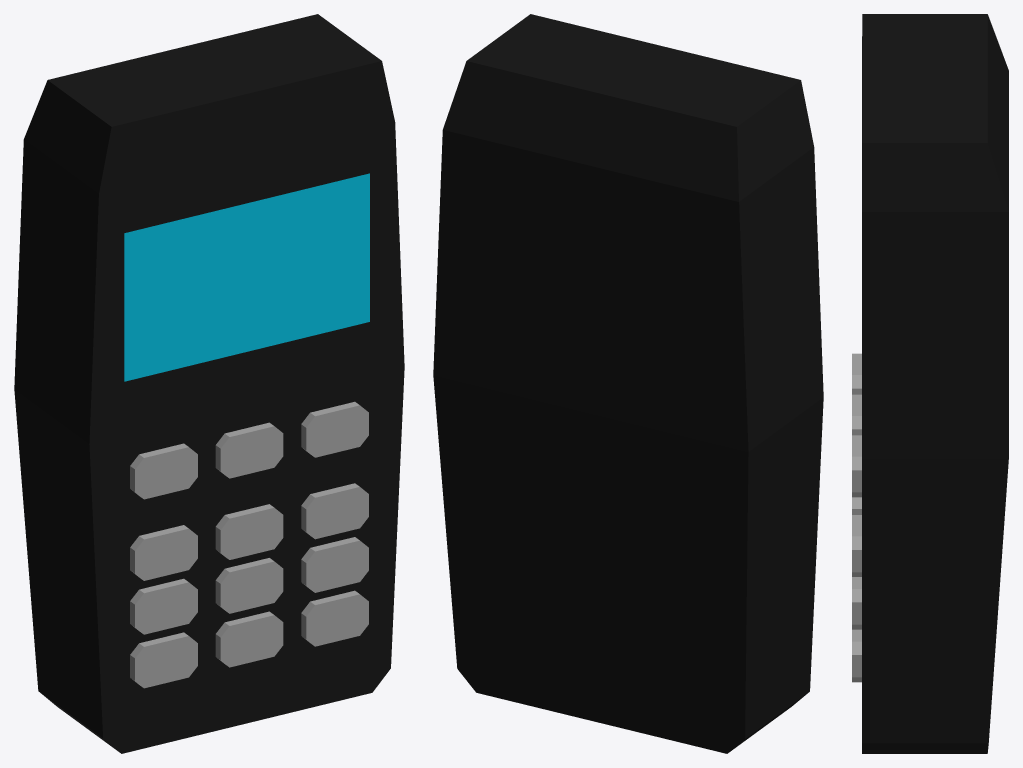
Rendered from phone_4.fbx.
3 renders of one model, left to right at view 1: azimuth 30°, elevation 25°; view 2: azimuth 150°, elevation 25°; view 3: azimuth 270°, elevation 25°, orthographic. The views are drawn at different scales.
Visible parts, largest first — view 1: Cube; view 2: Cube; view 3: Cube.
Part boxes in pixels (left/top/right/bottom): Cube: left=14, top=14, right=404, bottom=753; Cube: left=433, top=14, right=823, bottom=753; Cube: left=852, top=14, right=1008, bottom=753.
Size of the model in its own units: 73.7 by 141 by 32.46.
